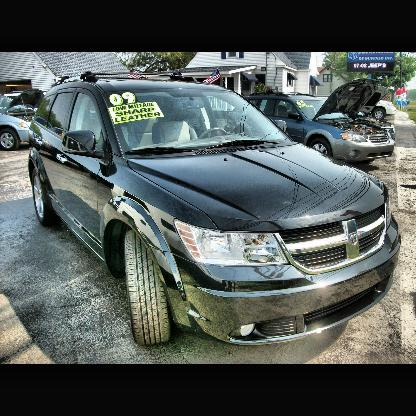Dodge Journey SUV 2012: (31, 73, 404, 348)
